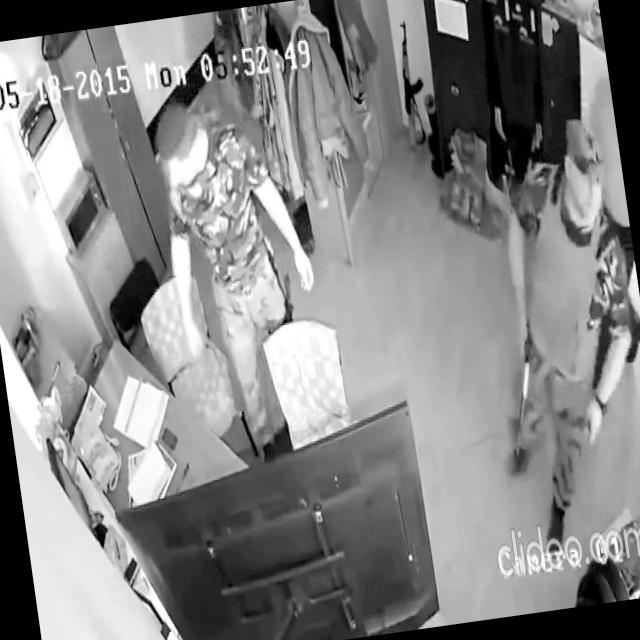gun: (496, 308, 552, 468), (391, 15, 434, 154)
person: (147, 89, 340, 468)
person with a gun: (463, 110, 640, 559)
